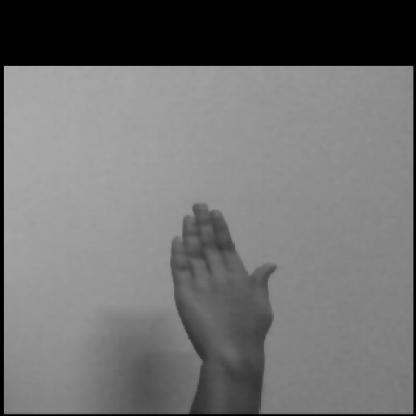palm: (140, 187, 332, 387)
